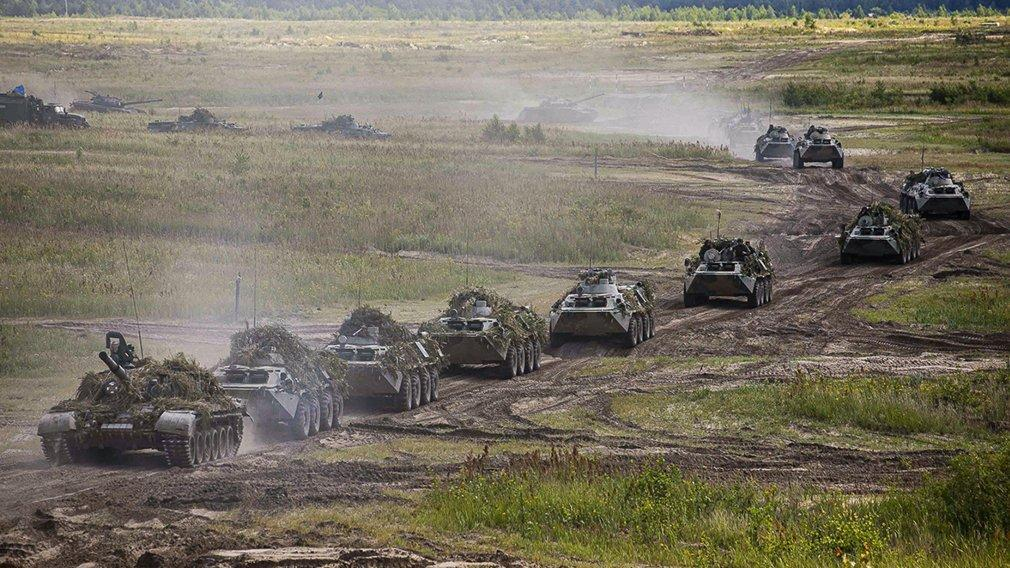tank: (36, 329, 257, 468), (208, 325, 345, 441), (318, 304, 443, 411), (417, 287, 544, 379), (549, 265, 658, 349), (684, 235, 774, 308), (838, 200, 922, 266), (899, 165, 973, 221), (518, 93, 607, 124), (293, 115, 392, 141), (147, 107, 243, 132), (70, 90, 163, 115), (793, 125, 844, 169), (754, 124, 797, 162), (730, 113, 766, 154)
truck: (0, 92, 91, 130)
